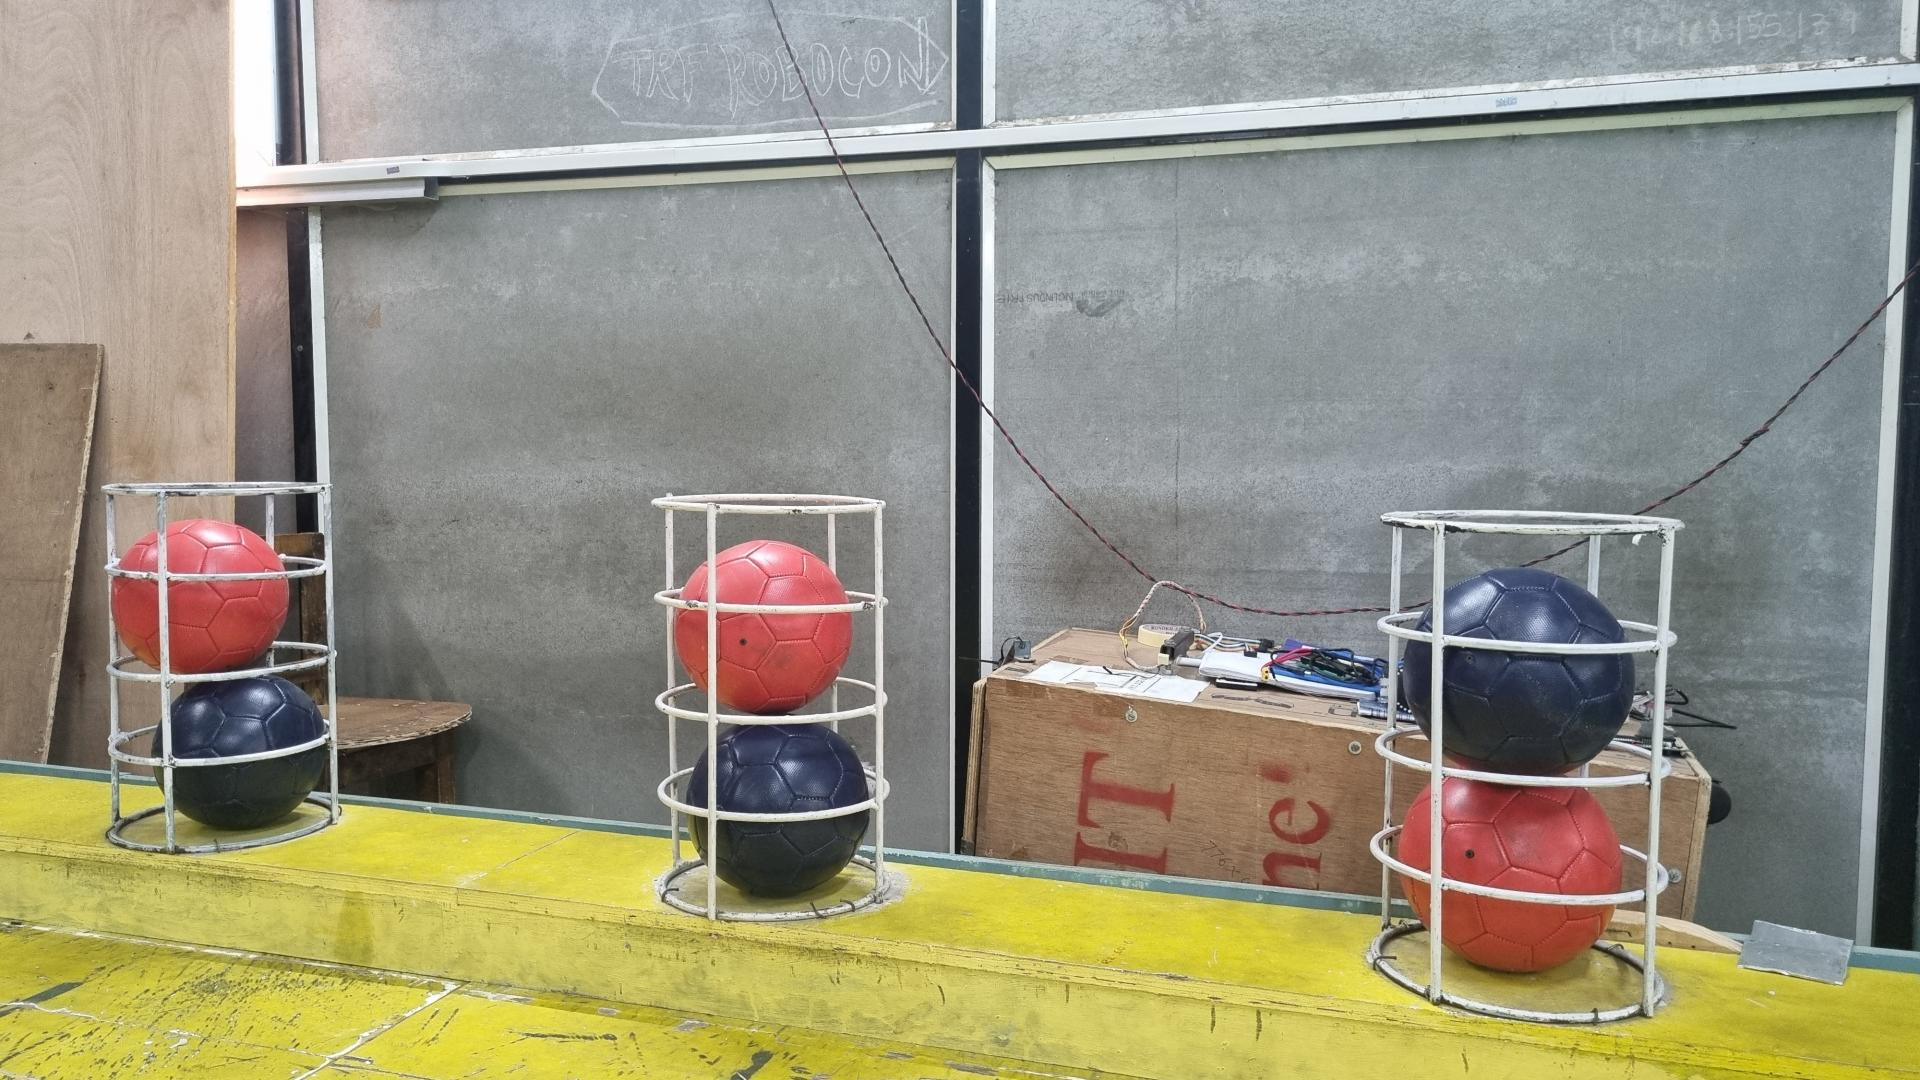dhoka: (1403, 570, 1635, 775), (686, 723, 870, 899), (150, 678, 330, 832)
laale: (1395, 775, 1623, 975), (675, 539, 852, 716), (112, 517, 289, 674)
